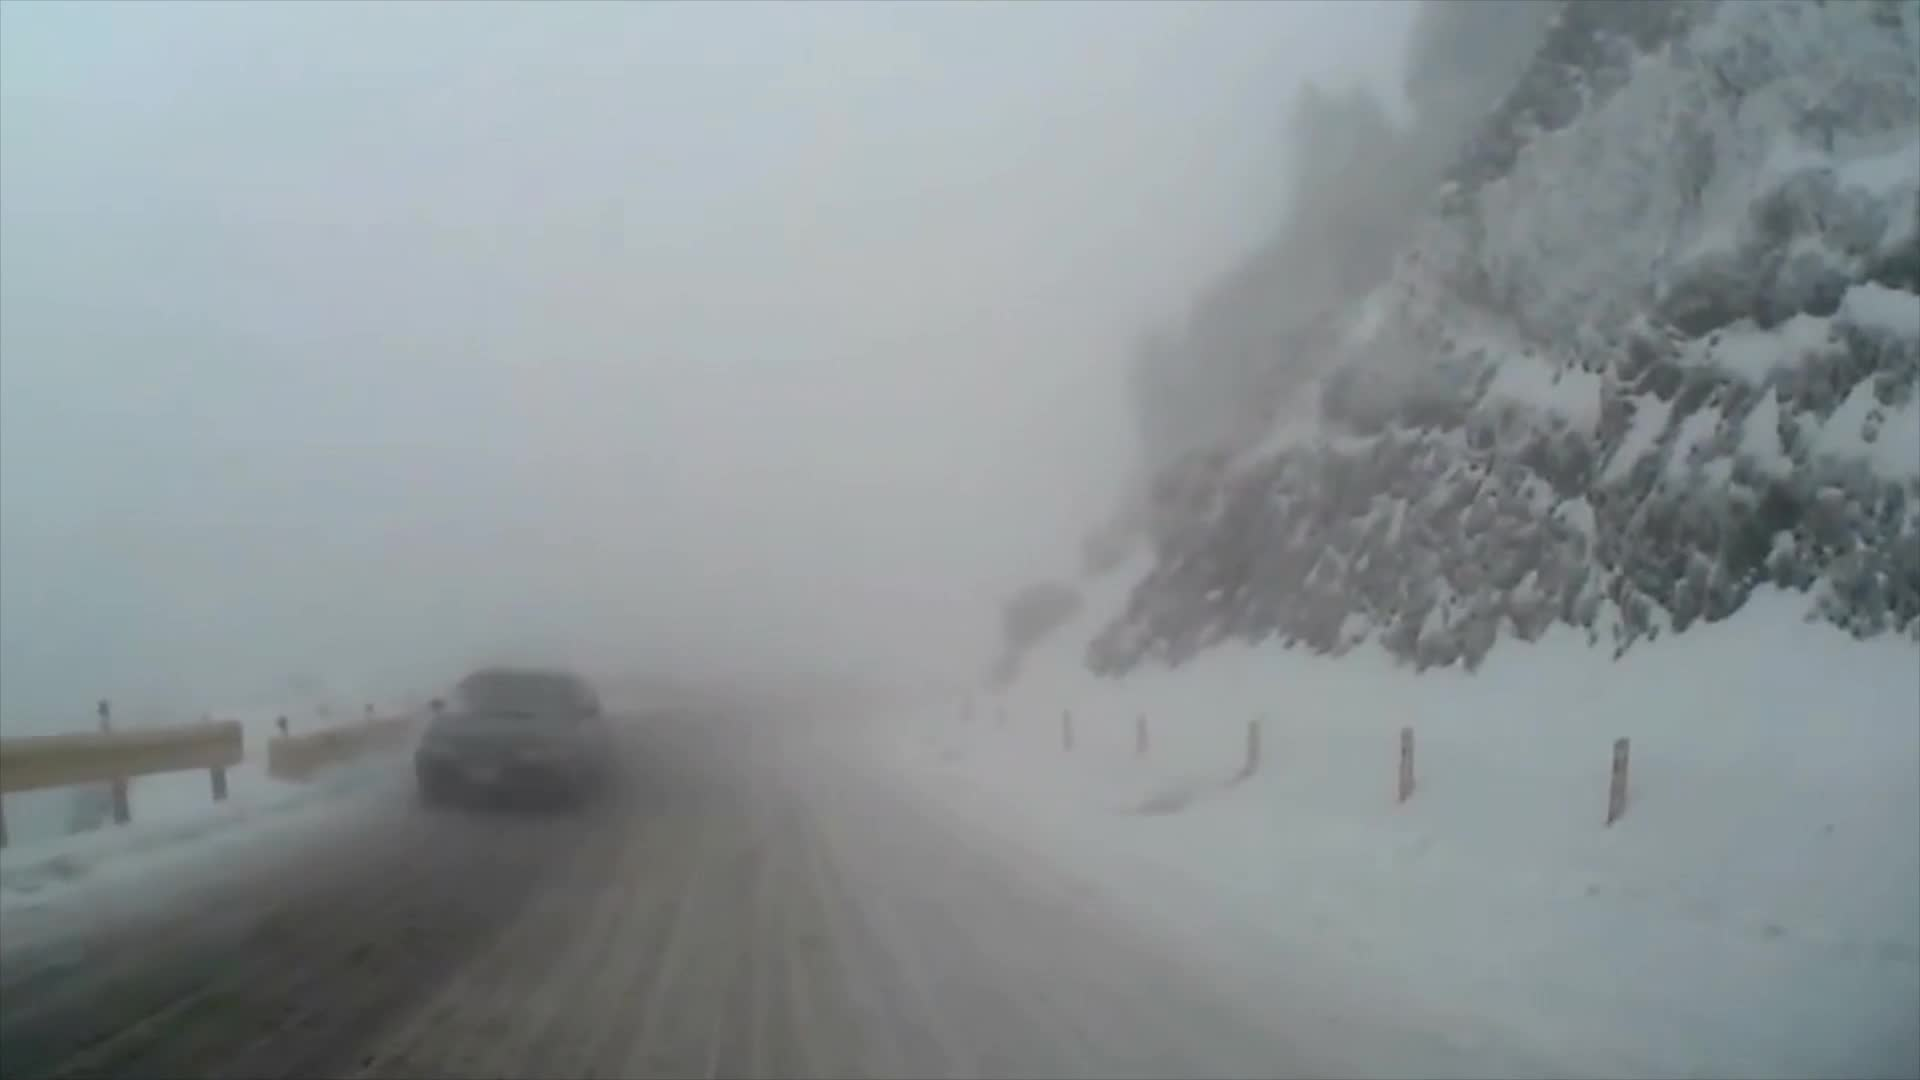vehicle: (411, 665, 615, 814)
